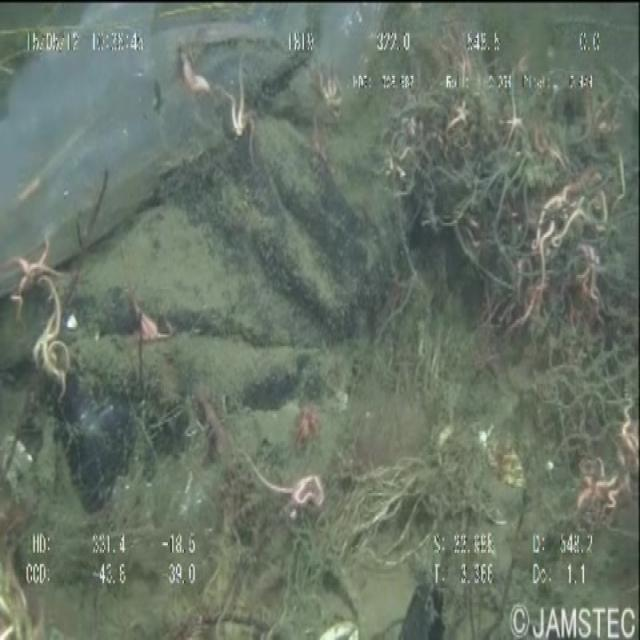Plastic: (3, 0, 392, 291)
Rope: (406, 11, 640, 539)
